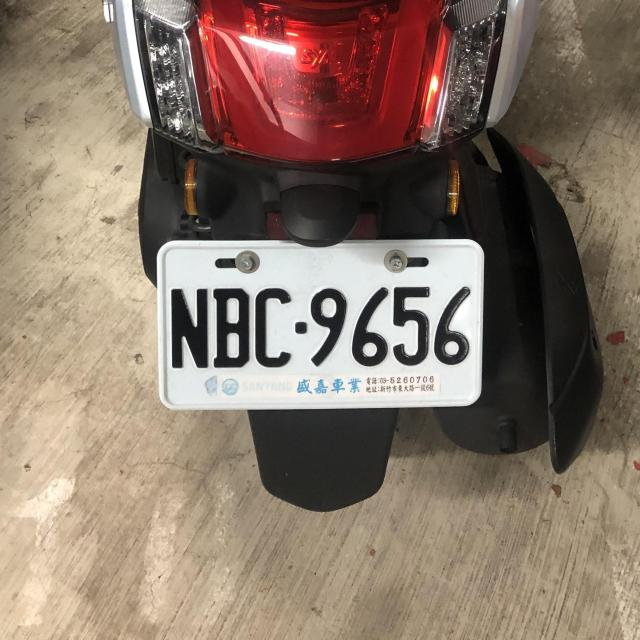W: (152, 235, 486, 415)
